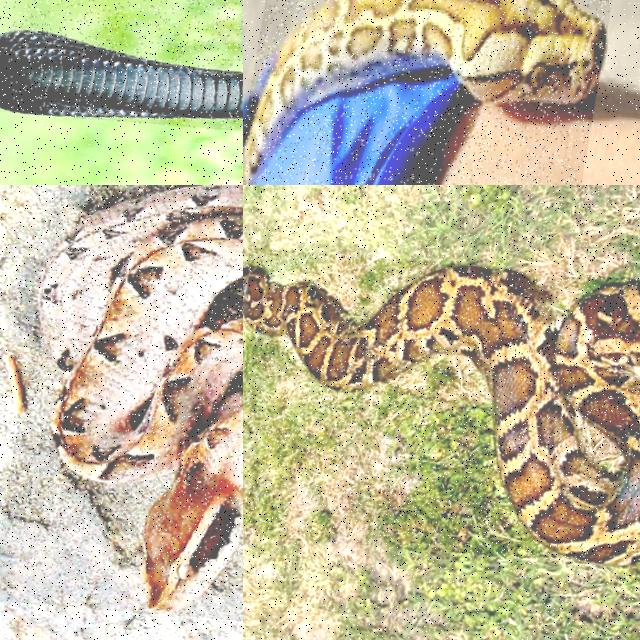Calloselasma rhodostoma: (40, 185, 242, 613)
Ophiophagus hannah: (0, 30, 242, 118)
Python bivittatus: (243, 264, 639, 564), (243, 0, 605, 184)
snake: (243, 264, 639, 564), (40, 185, 242, 613), (243, 0, 605, 184), (0, 30, 242, 118)
